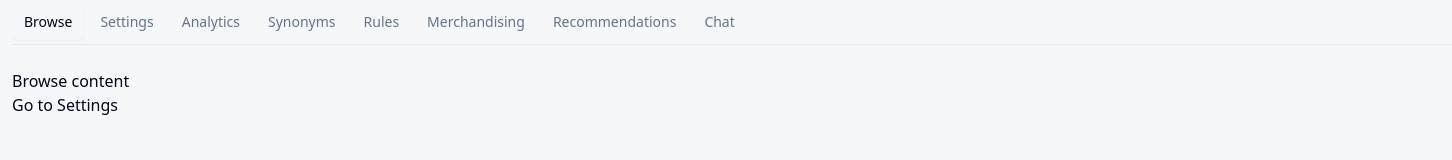
Test case: IndexLayout › renders IndexTabBar above the outlet and keeps it mounted while child routes change
Expected: the element with test id "index-tab-bar" is shown, [12, 0, 1451, 45]
Expected: the heading "Browse content" is shown, [12, 70, 129, 92]
Click the link "Go to Settings": (65, 105) [12, 94, 118, 116]
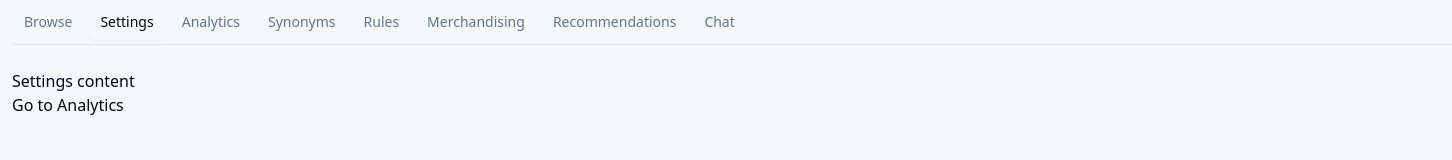
Now the heading "Settings content" is shown, box [12, 70, 135, 92]
Click the link "Go to Analytics": (68, 105) [12, 94, 124, 116]
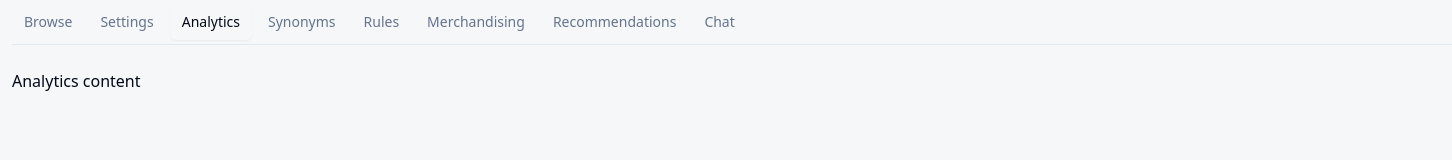
Now the heading "Analytics content" is shown, box [12, 70, 140, 92]
